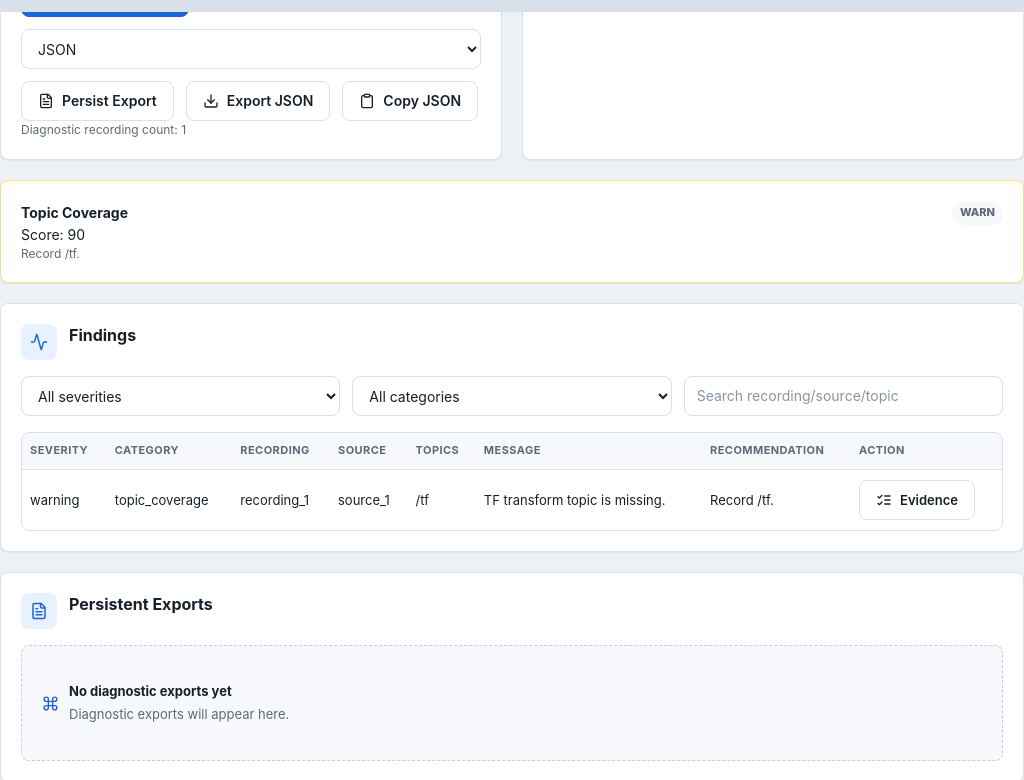
Test case: DiagnosticsSection › filters findings and expands evidence
The width and height of the screenshot is (1024, 780).
(page scrolled)
Type "/tf" into the field labelled "Search recording/source/topic". click: (843, 396)
box: [684, 376, 1003, 416]
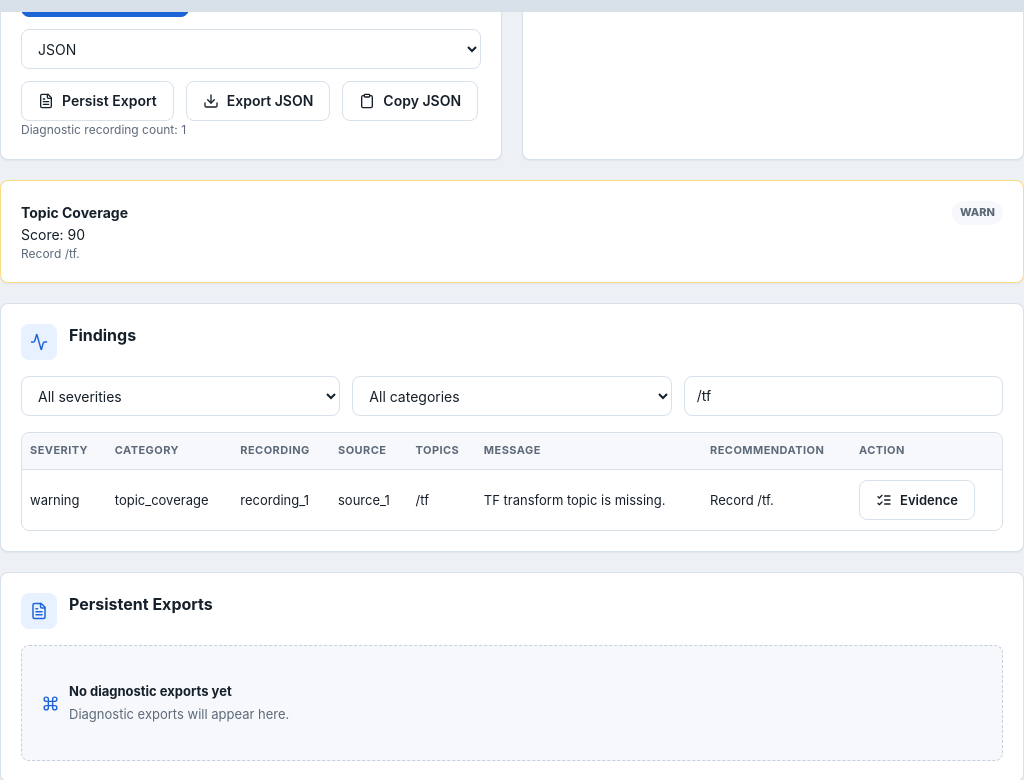
Expected: the text "TF transform topic is missing." is shown, [476, 470, 702, 530]
Click the button "Evidence". click: click(917, 500)
box: [859, 480, 975, 520]
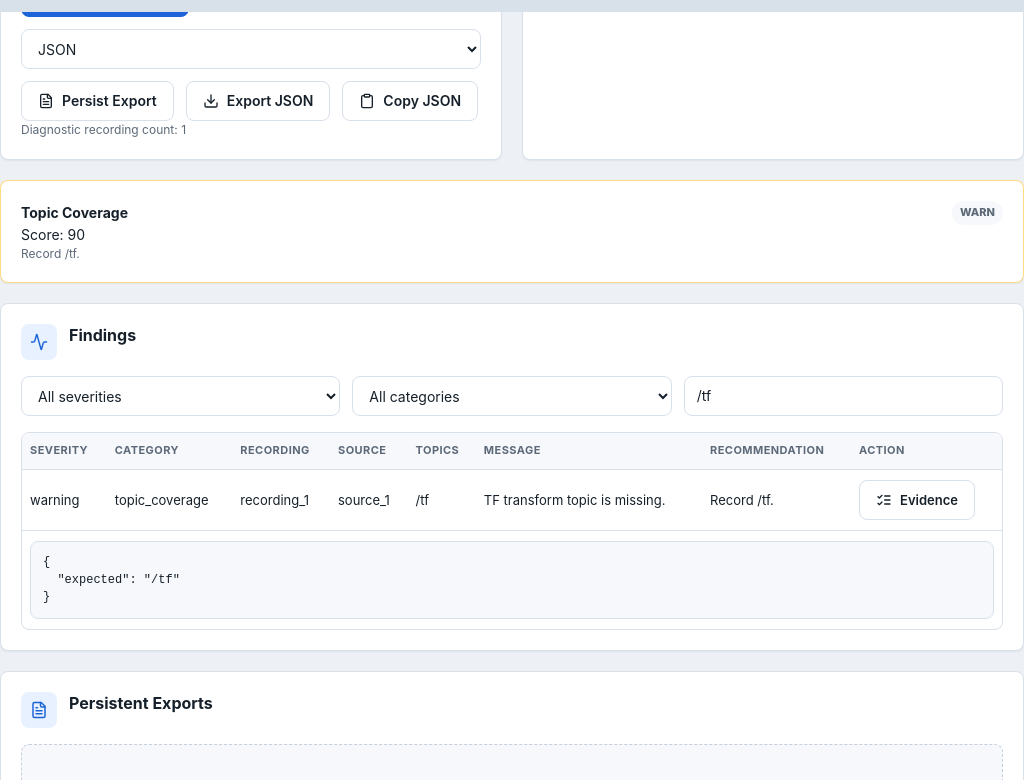
Expected: the text "{ \"expected\": \"/tf\" }" is shown, [30, 541, 994, 620]
Replace the text in the field named "Search recording/source/topic" with "camera". click: (843, 396)
box: [684, 376, 1003, 416]
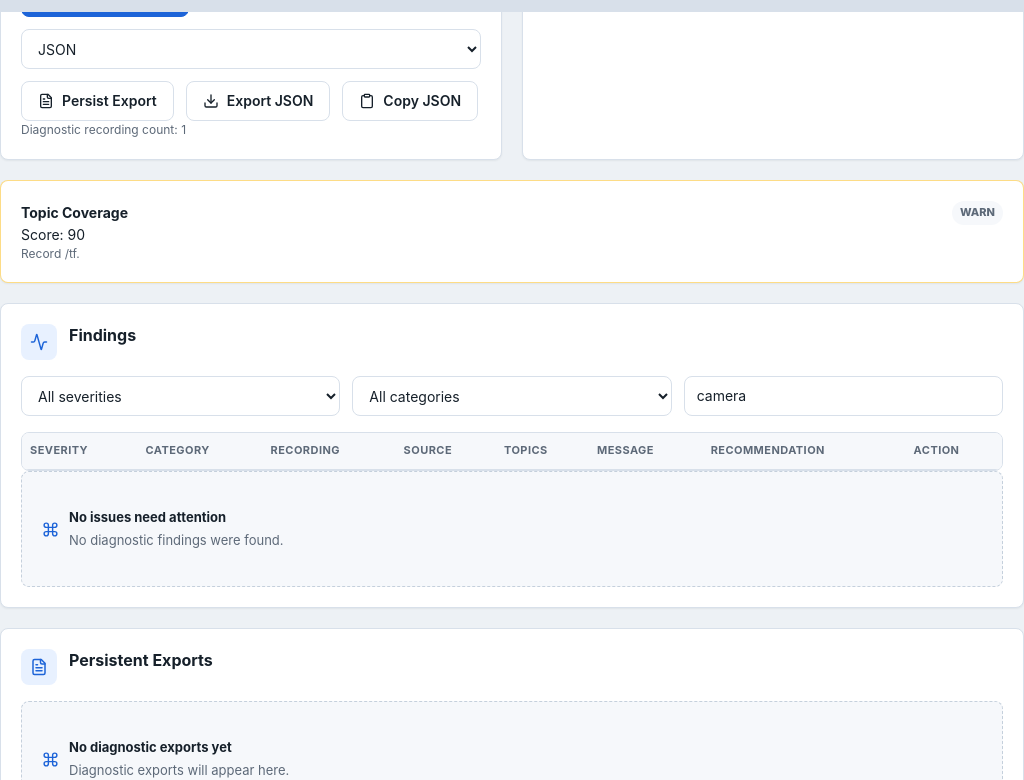
Expected: the text "TF transform topic is missing." is gone
